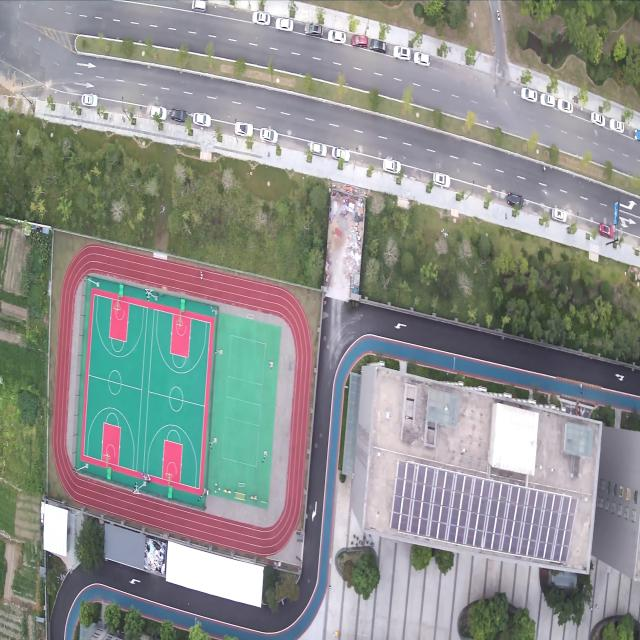UAV: (160, 205, 167, 215)
